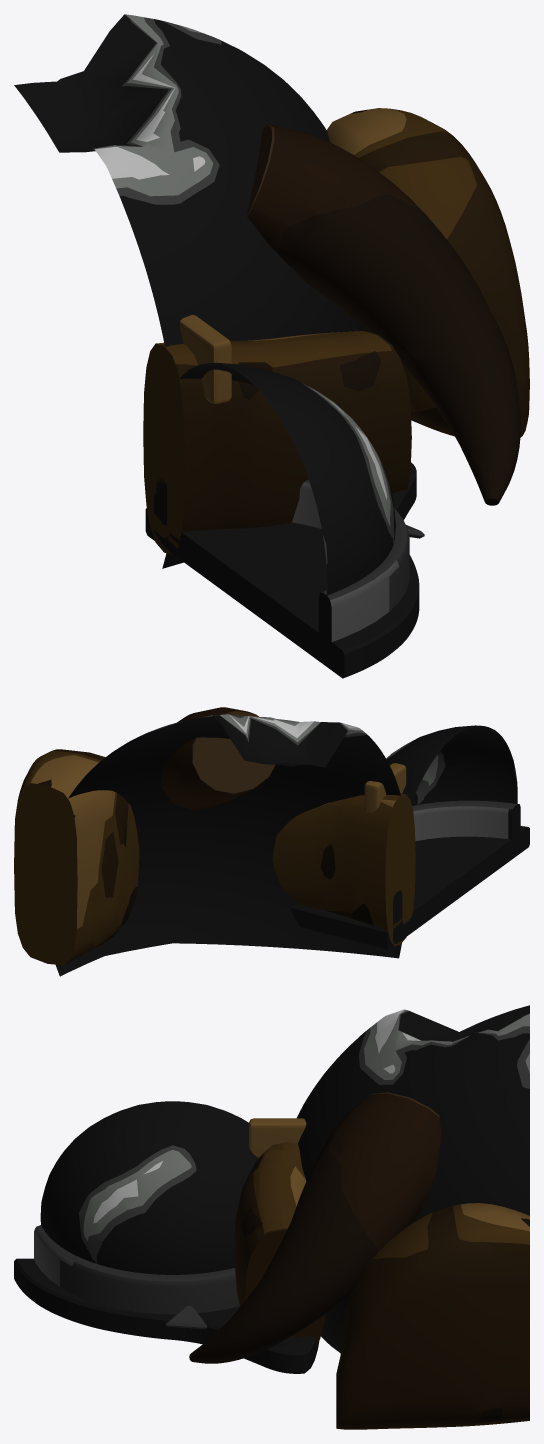
File: claw_orb_br_wreck.glb
The picture shows the model from 3 angles, top to bottom: view 1: azimuth 30°, elevation 25°; view 2: azimuth 150°, elevation 25°; view 3: azimuth 270°, elevation 25°; orthographic projection. The views are drawn at different scales.
Parts seen in each view (by area): view 1: claw_orb_br_wreck; view 2: claw_orb_br_wreck; view 3: claw_orb_br_wreck.
Boxes of the visible parts, x1=… form: claw_orb_br_wreck: x1=14, y1=14, x2=529, y2=678; claw_orb_br_wreck: x1=14, y1=707, x2=529, y2=976; claw_orb_br_wreck: x1=14, y1=1005, x2=529, y2=1429.
Bounding box in the file's own units: 18.16 × 17.65 × 25.09.
